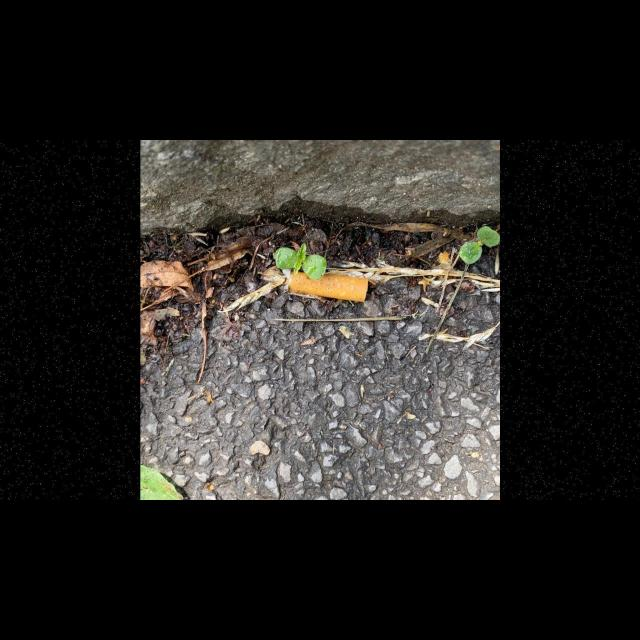cigarette: (281, 268, 368, 302)
